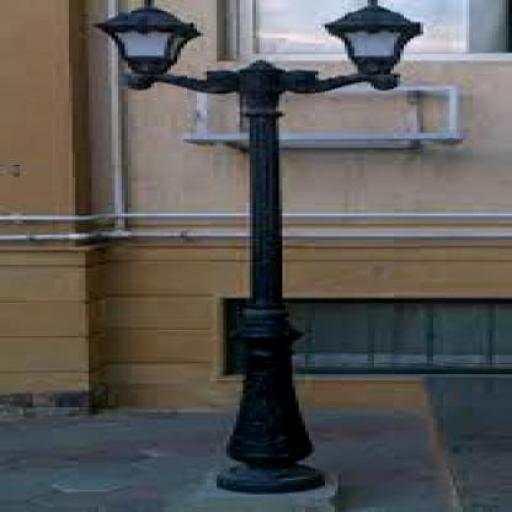street light: (98, 2, 424, 492)
